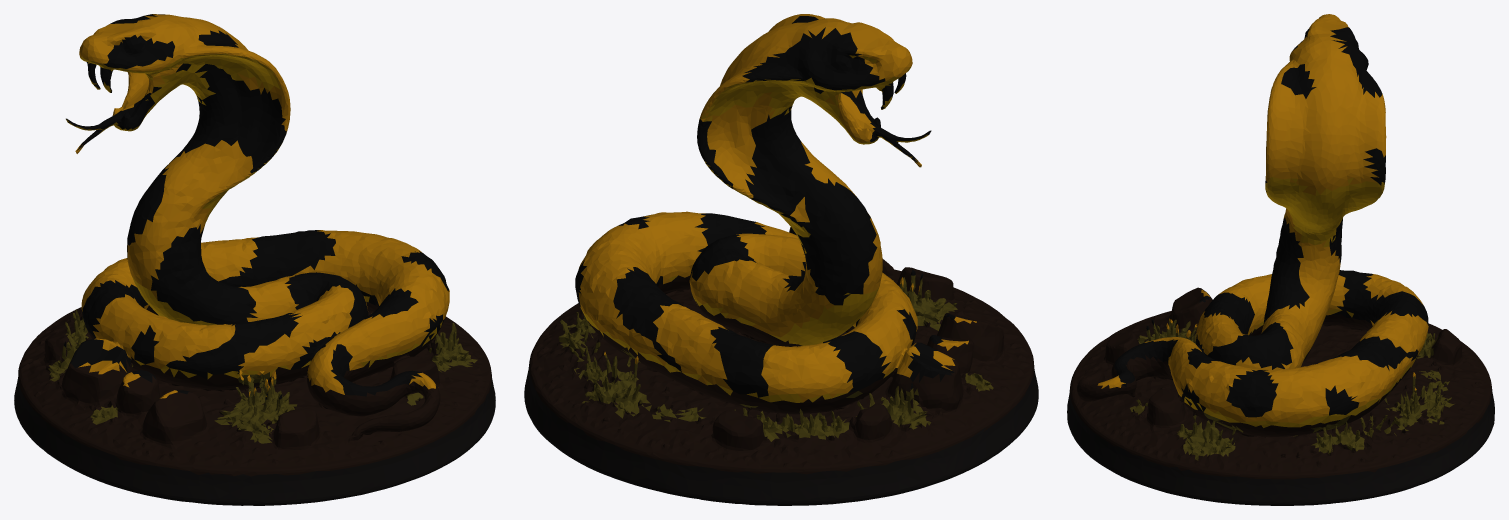
Rendered from cobra_venenosa.glb.
3 views of the same model, side by side, from view 1: azimuth 30°, elevation 25°; view 2: azimuth 150°, elevation 25°; view 3: azimuth 270°, elevation 25° (orthographic). The views are drawn at different scales.
Parts seen in each view (by area): view 1: tmpqq1k9c9k.ply; view 2: tmpqq1k9c9k.ply; view 3: tmpqq1k9c9k.ply.
Boxes of the visible parts, box(x1,y1,x2,y2) form: tmpqq1k9c9k.ply: box(14, 14, 495, 505); tmpqq1k9c9k.ply: box(524, 14, 1038, 505); tmpqq1k9c9k.ply: box(1067, 14, 1494, 505).
Bounding box in the file's own units: 1.96 × 1.77 × 1.96.
